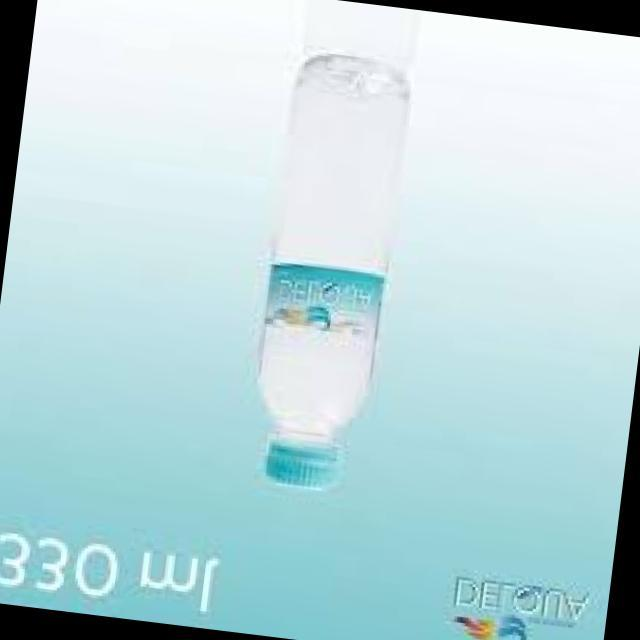good: (209, 35, 452, 507)
